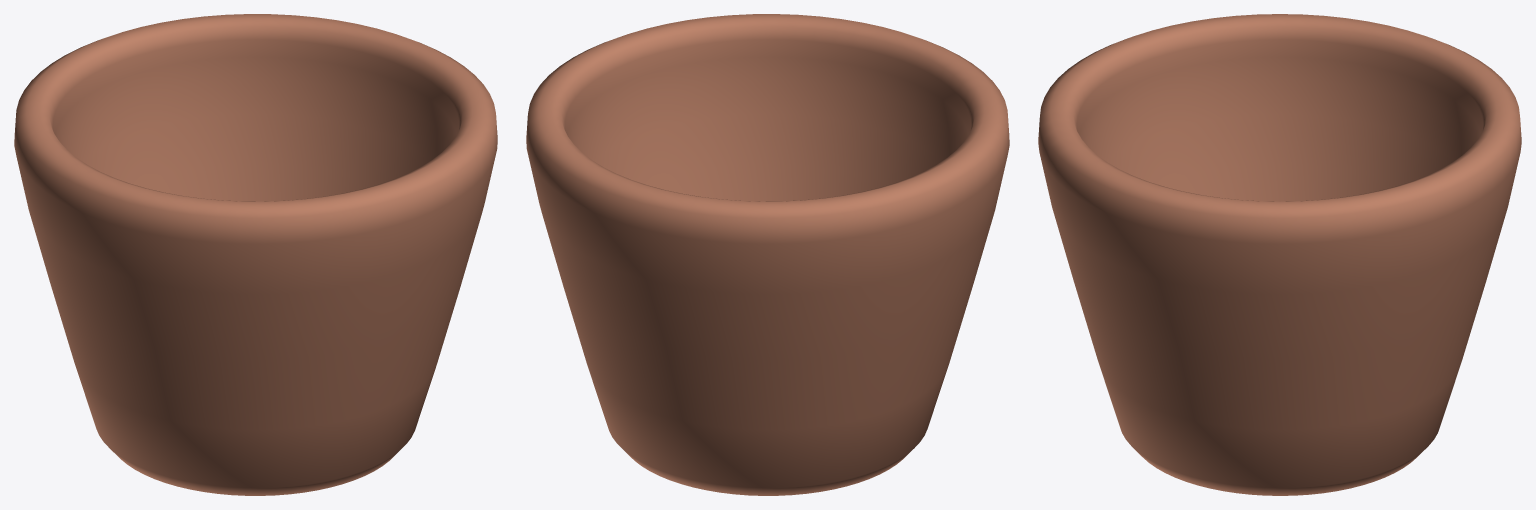
The model's file is default_pot_NEW.fbx.
3 views of the same model, side by side, from view 1: azimuth 30°, elevation 25°; view 2: azimuth 150°, elevation 25°; view 3: azimuth 270°, elevation 25° (orthographic).
Parts seen in each view (by area): view 1: DefaultPot; view 2: DefaultPot; view 3: DefaultPot.
Part boxes in pixels (x1,y1,x2,y2): DefaultPot: [14, 14, 497, 495]; DefaultPot: [526, 14, 1009, 495]; DefaultPot: [1038, 14, 1521, 495].
Size of the model in its own units: 1.83 by 1.35 by 1.83.
